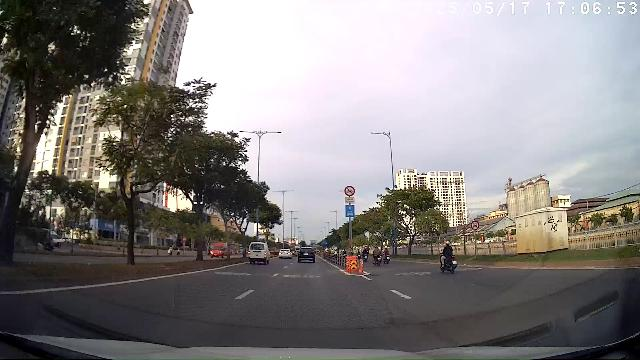103a-cam-oto: (471, 220, 479, 230)
